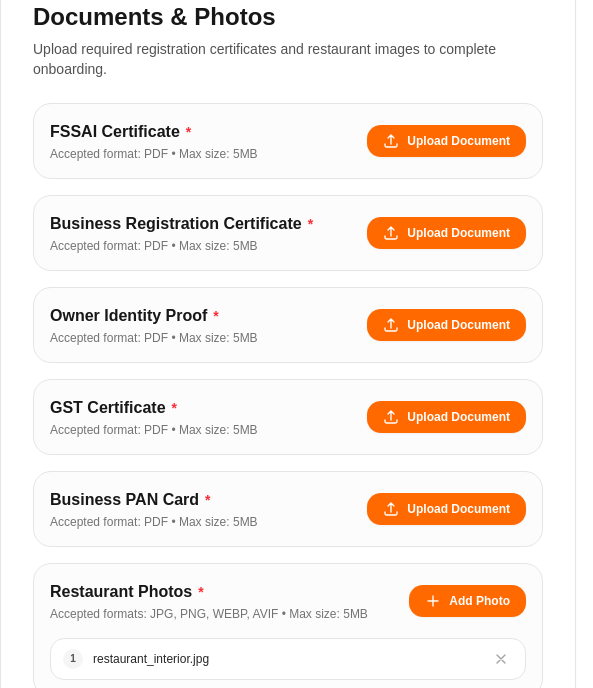
Test: DocumentsPage › handles S3 deletion failure for photos and retains photo in state
What coordinates should you click on to do the following:
click the button named "remove photo restaurant_interior.jpg"
I would click on:
 (501, 659)
Its box is [489,647,513,671].
(page scrolled)
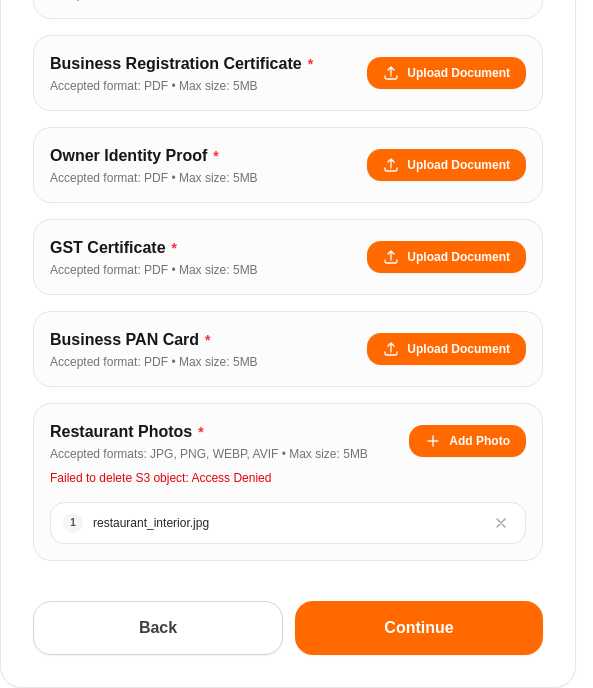
Expected: the text "restaurant_interior.jpg" is shown, [93,515,209,531]
Expected: the text "Failed to delete S3 object: Access Denied" is shown, [50,471,272,485]
